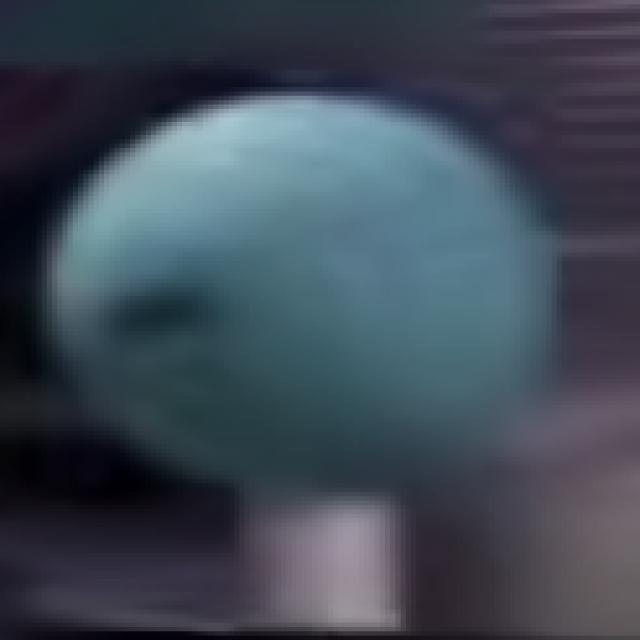Algae: (48, 91, 562, 492)
Coral: (248, 492, 403, 640)
